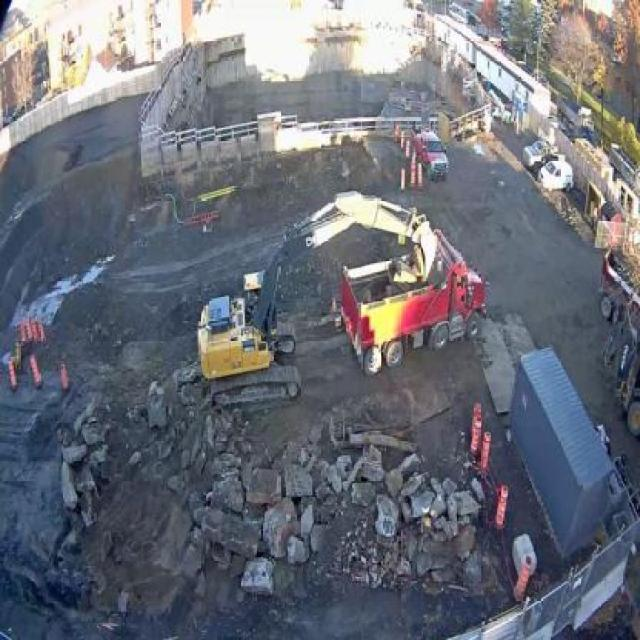dump_truck: (337, 223, 485, 374), (592, 248, 638, 323)
excavator: (193, 184, 438, 408)
